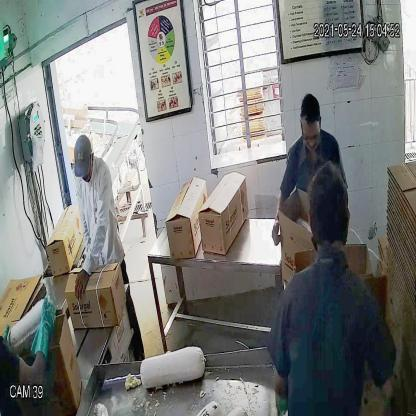goggles: (300, 121, 322, 147)
